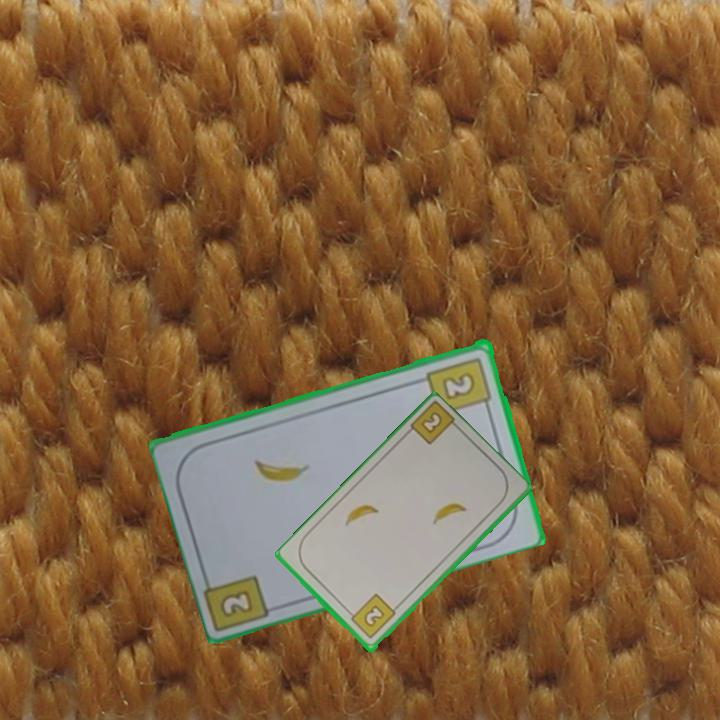2b: (424, 353, 495, 417), (344, 591, 399, 642), (216, 585, 257, 620), (417, 408, 445, 437)
